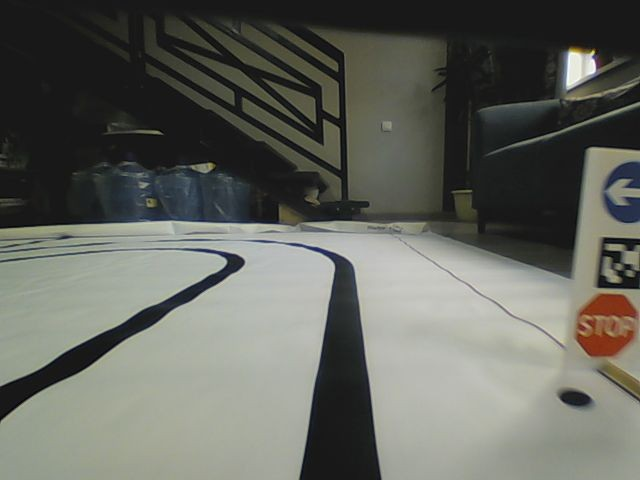Stop: (574, 294, 637, 358)
